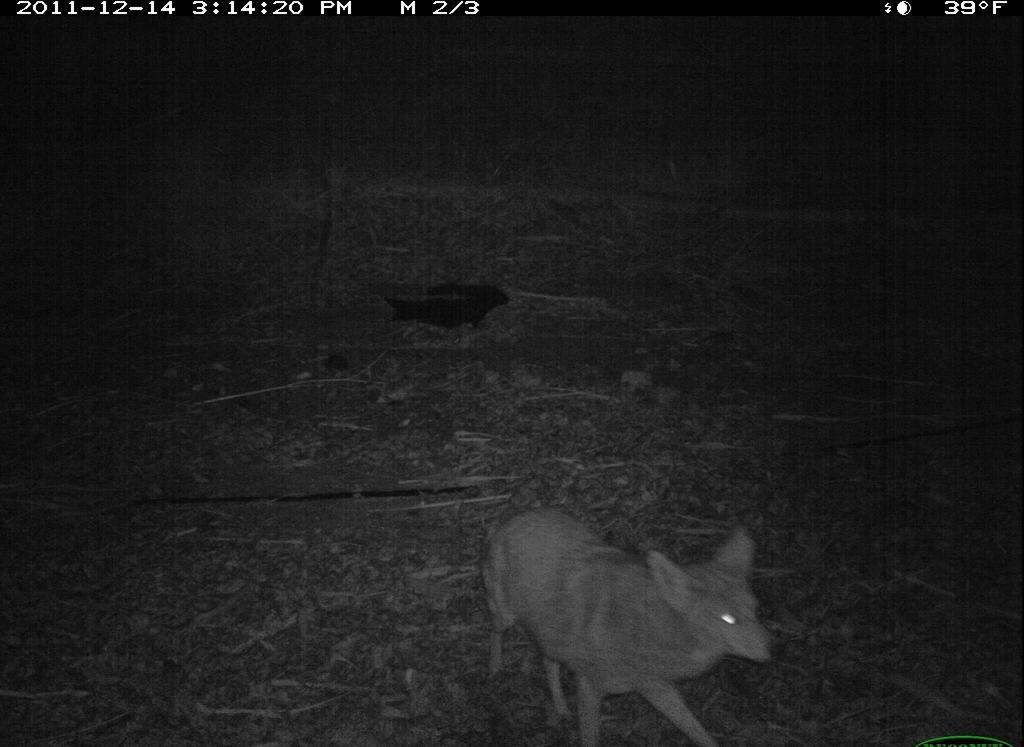coyote: (474, 502, 790, 745)
